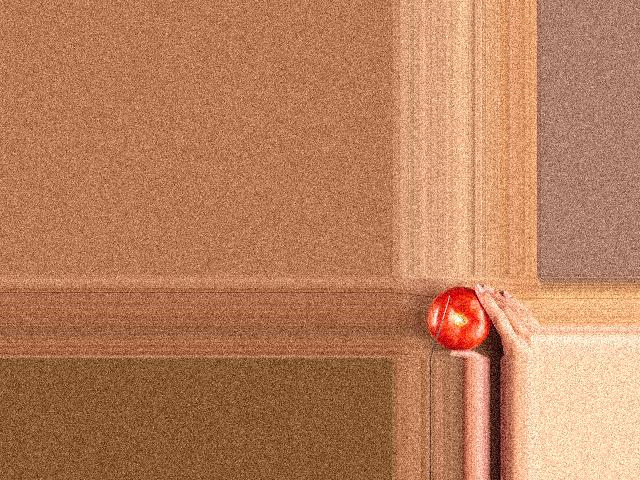tomato: (428, 287, 491, 350)
